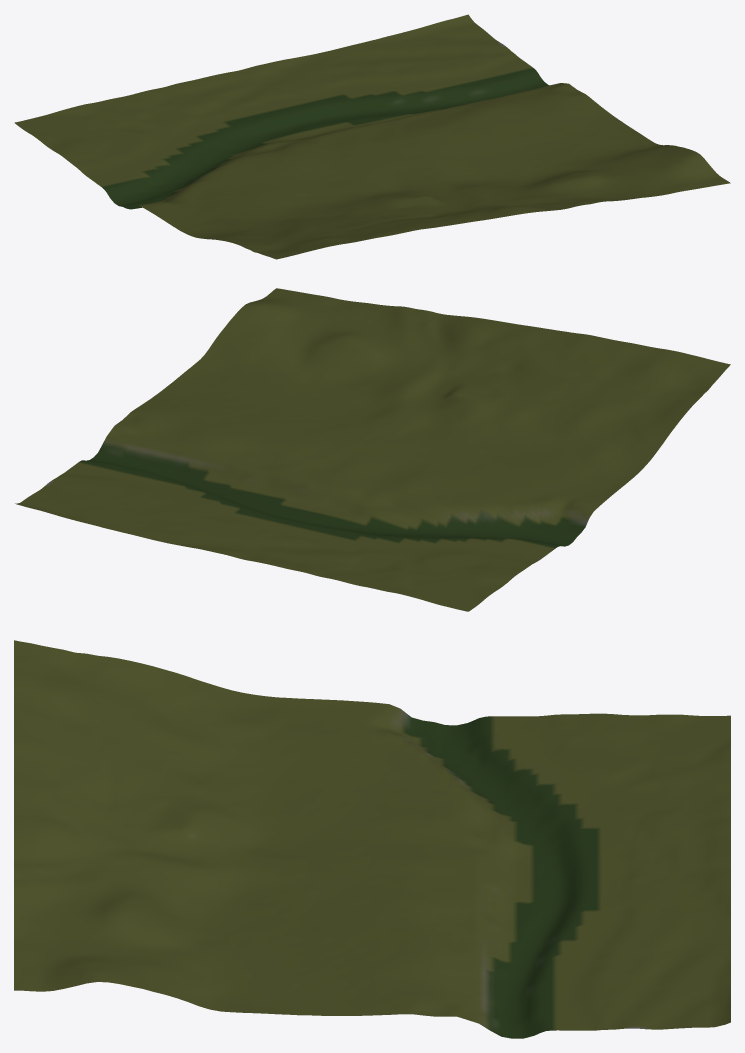
File: terrain_15_-10.glb
3 views of the same model, one above another, from view 1: azimuth 30°, elevation 25°; view 2: azimuth 150°, elevation 25°; view 3: azimuth 270°, elevation 25° (orthographic). The views are drawn at different scales.
Visible parts, largest first — view 1: terrain_15_-10; view 2: terrain_15_-10; view 3: terrain_15_-10.
Boxes of the visible parts, <box> form: terrain_15_-10: <box>14,14,730,259</box>; terrain_15_-10: <box>15,288,730,611</box>; terrain_15_-10: <box>14,640,730,1038</box>.
Size of the model in its own units: 256 by 37.65 by 256.
